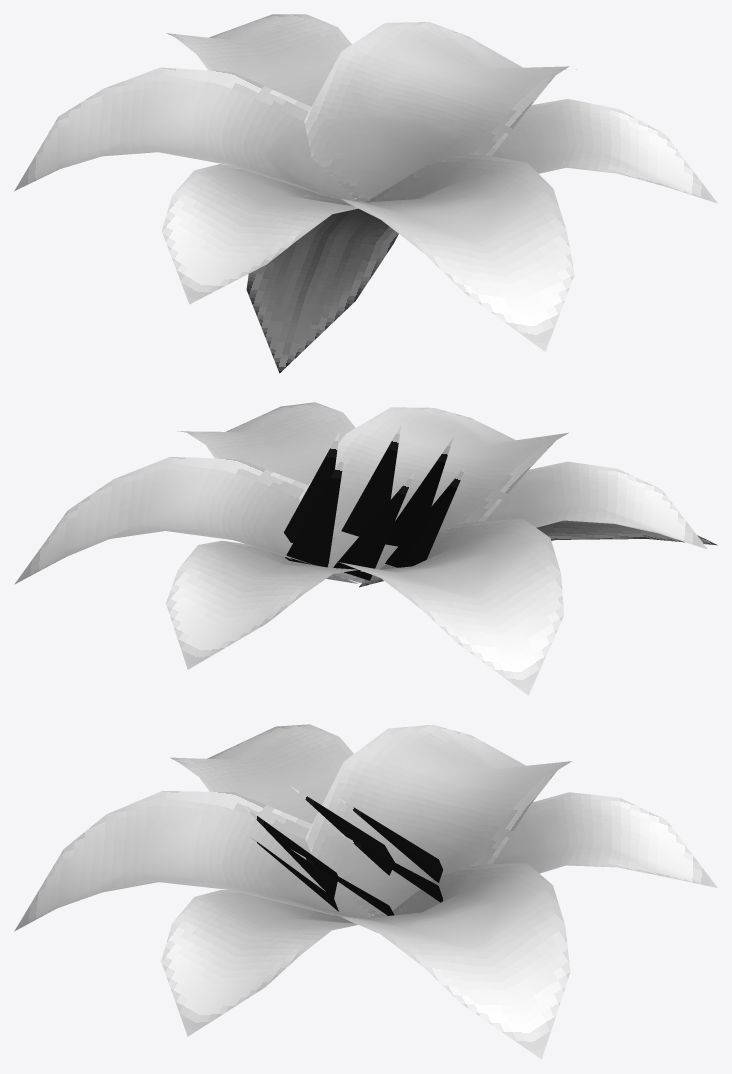
Rendered from CapPltOrnamentRYuri.glb.
The picture shows the model from 3 angles, top to bottom: view 1: azimuth 30°, elevation 25°; view 2: azimuth 150°, elevation 25°; view 3: azimuth 270°, elevation 25°; orthographic projection. The views are drawn at different scales.
Parts seen in each view (by area): view 1: Shibe12__mFlowerLily, Leaf01__mFlowerBodyLily; view 2: Shibe12__mFlowerLily, Leaf01__mFlowerBodyLily; view 3: Shibe12__mFlowerLily.
Part boxes in pixels (left/top/right/bottom): Shibe12__mFlowerLily: left=14, top=14, right=717, bottom=351; Leaf01__mFlowerBodyLily: left=246, top=208, right=398, bottom=373; Shibe12__mFlowerLily: left=14, top=402, right=707, bottom=695; Leaf01__mFlowerBodyLily: left=359, top=520, right=717, bottom=587; Shibe12__mFlowerLily: left=14, top=724, right=717, bottom=1059.
Bounding box in the file's own units: 3.07 × 0.6581 × 3.54.
2 materials, 2 textured.
